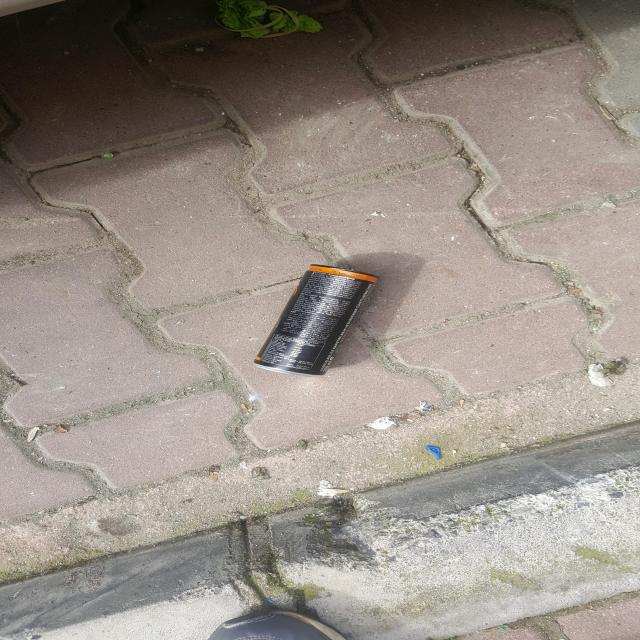Drink can: (253, 264, 380, 377)
Other plastic bottle: (425, 445, 441, 460)
Unlabeled litter: (215, 1, 323, 38)
